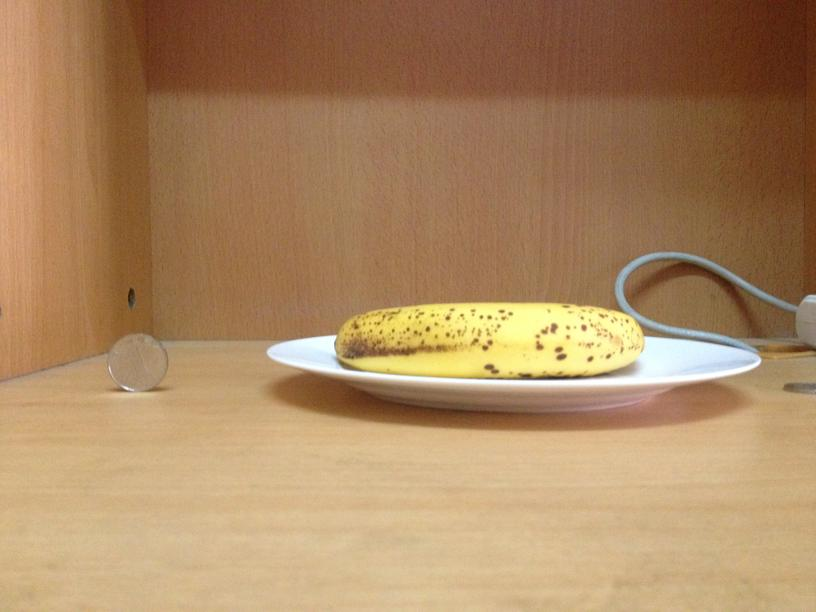banana: (328, 296, 643, 378)
coin: (109, 330, 167, 391)
